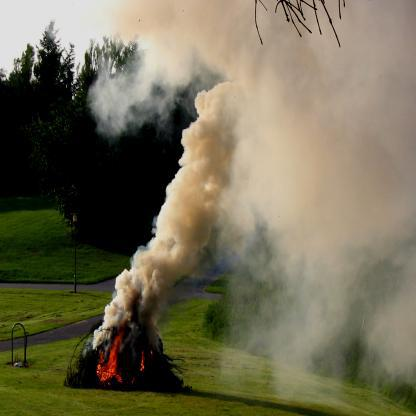smoke: (224, 53, 416, 395), (168, 85, 233, 264), (85, 66, 177, 142)
